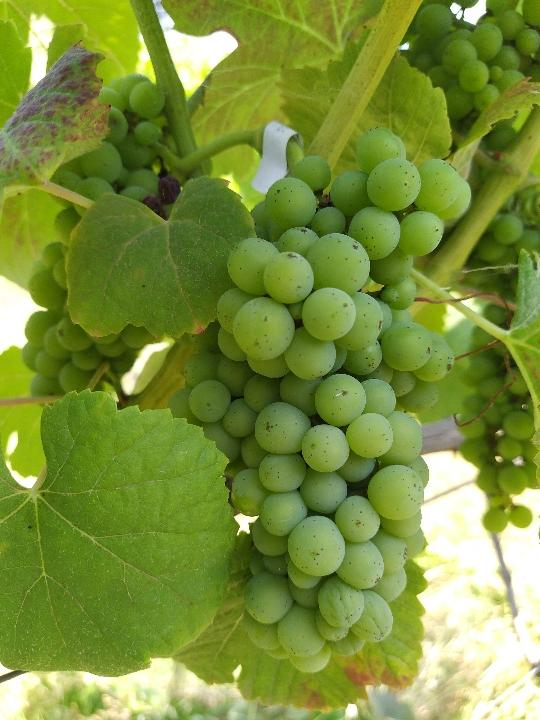grape: (162, 126, 473, 681)
